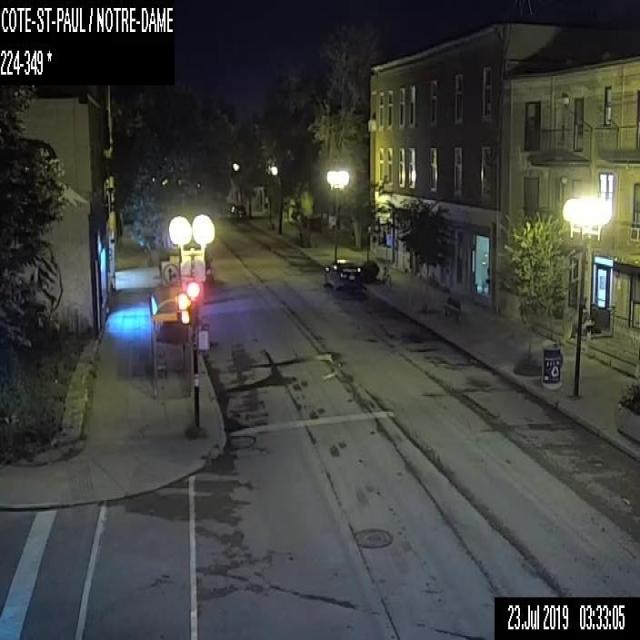pedestrian: (570, 302, 587, 338), (582, 306, 597, 335)
vehicle: (324, 257, 364, 292), (203, 247, 213, 283), (230, 204, 246, 219)
